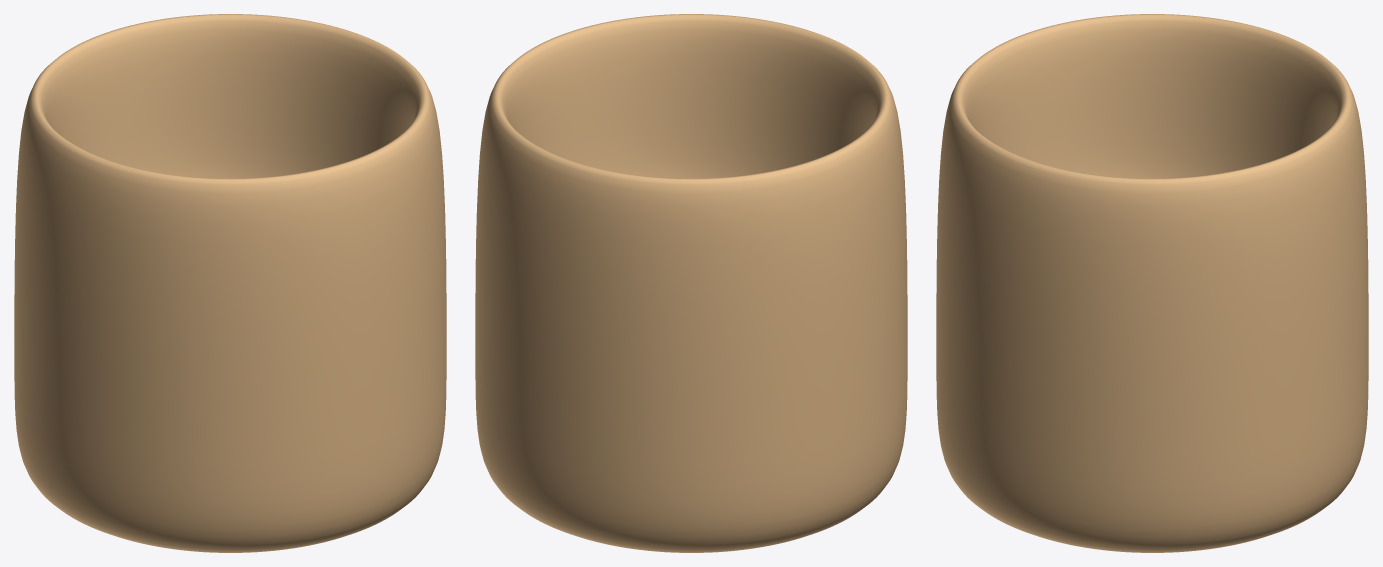
Rendered from testd.glb.
3 renders of one model, left to right at view 1: azimuth 30°, elevation 25°; view 2: azimuth 150°, elevation 25°; view 3: azimuth 270°, elevation 25°, orthographic.
Visible parts, largest first — view 1: Cylinder; view 2: Cylinder; view 3: Cylinder.
Part boxes in pixels (x1,y1,x2,y2): Cylinder: [14, 14, 446, 552]; Cylinder: [475, 14, 907, 552]; Cylinder: [936, 14, 1368, 552].
Bounding box in the file's own units: 1.99 × 1.95 × 1.99.
